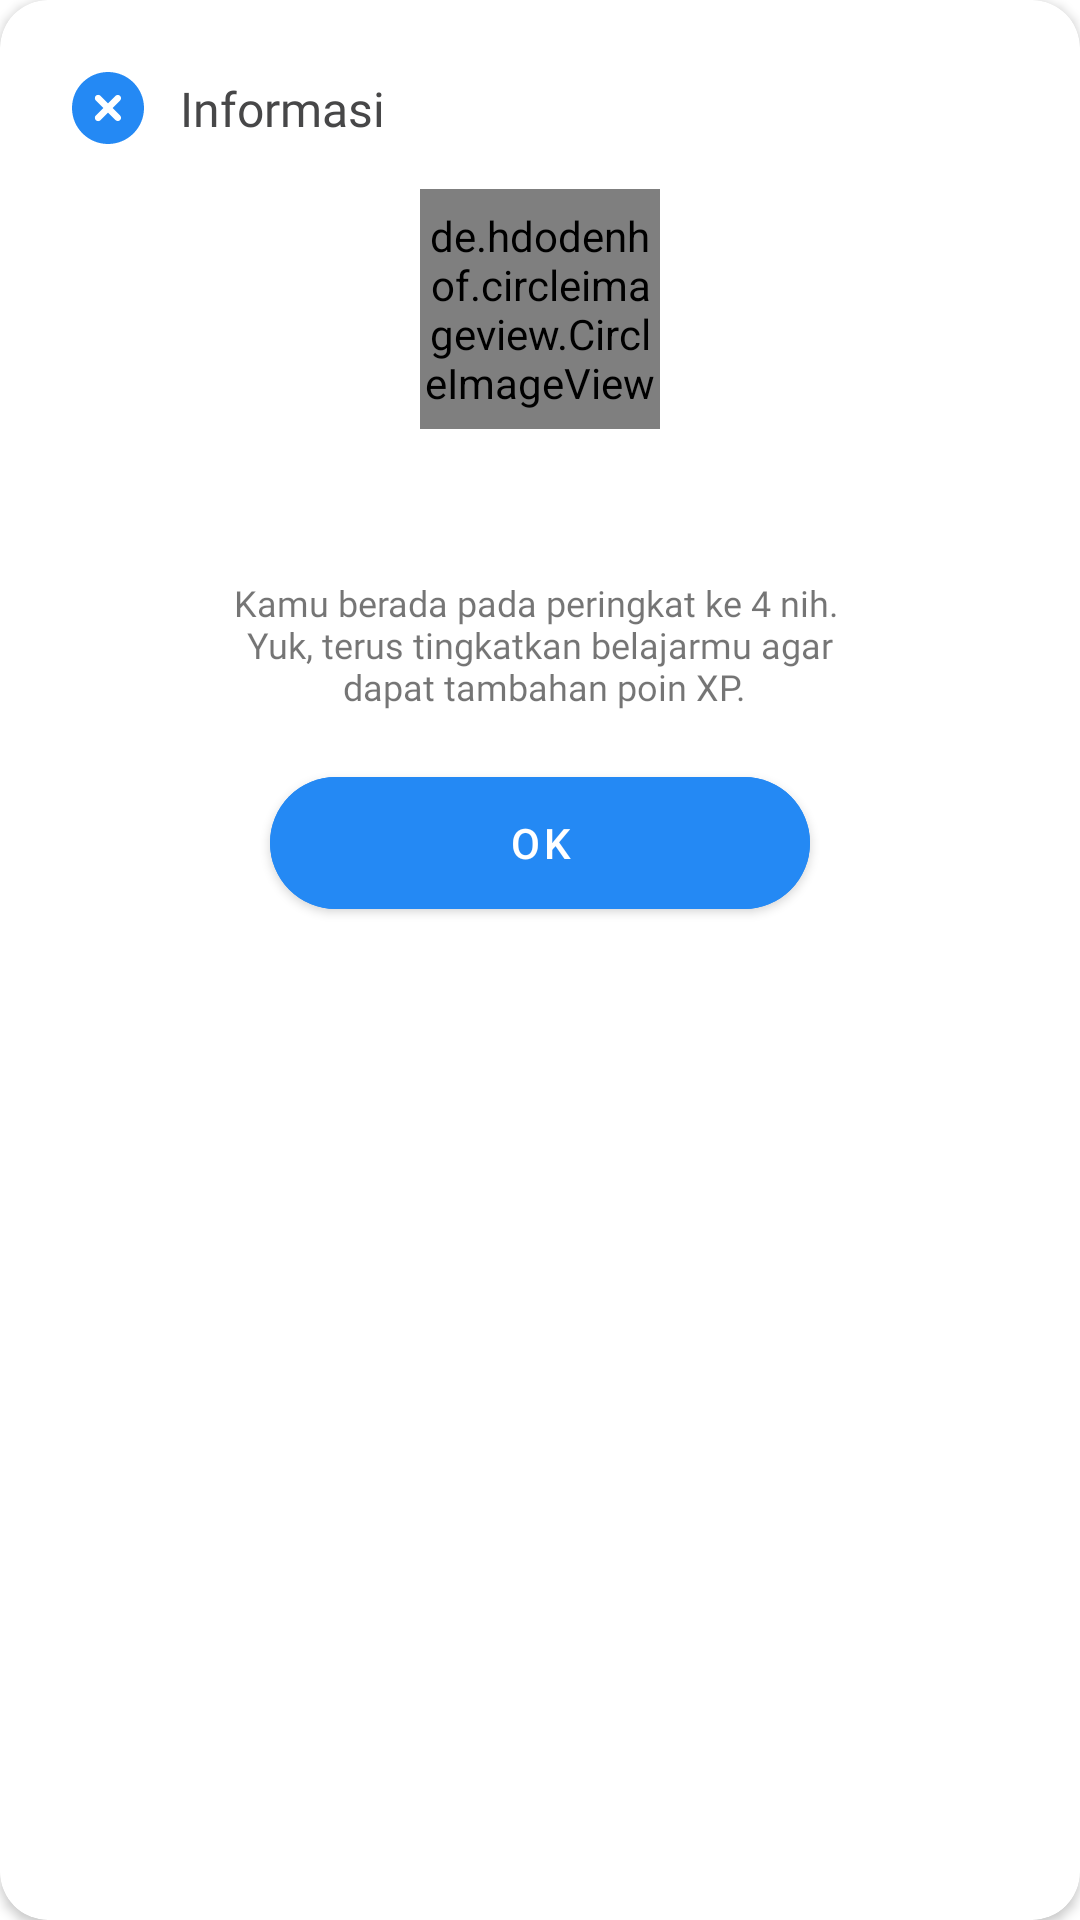

Named icons in this screenshot (1080px×1920px) and their centers, (x=x, y=y):
close: (x=108, y=108)
